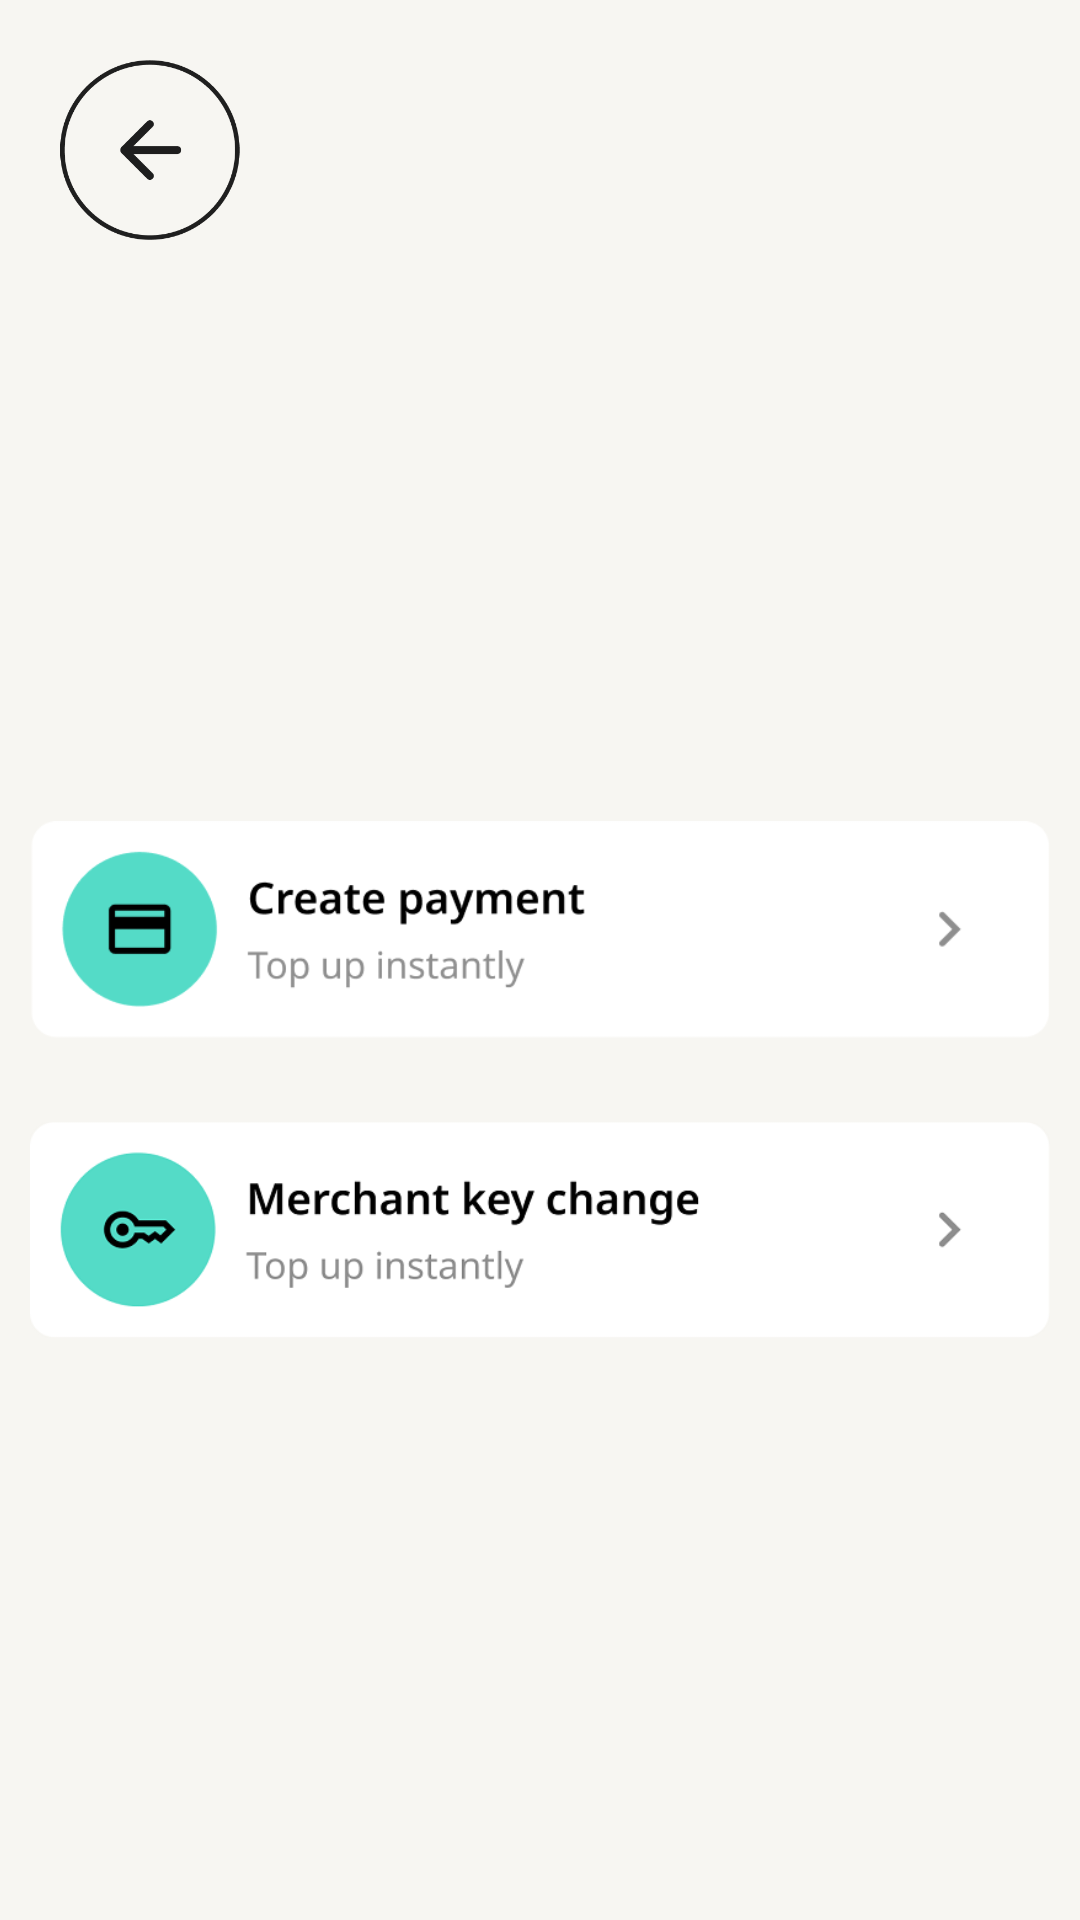

Screen size 1080w x 1920h. Icon name, then its box in pixels as rect(x1, y1, x2, y2):
back: rect(60, 60, 240, 240)
